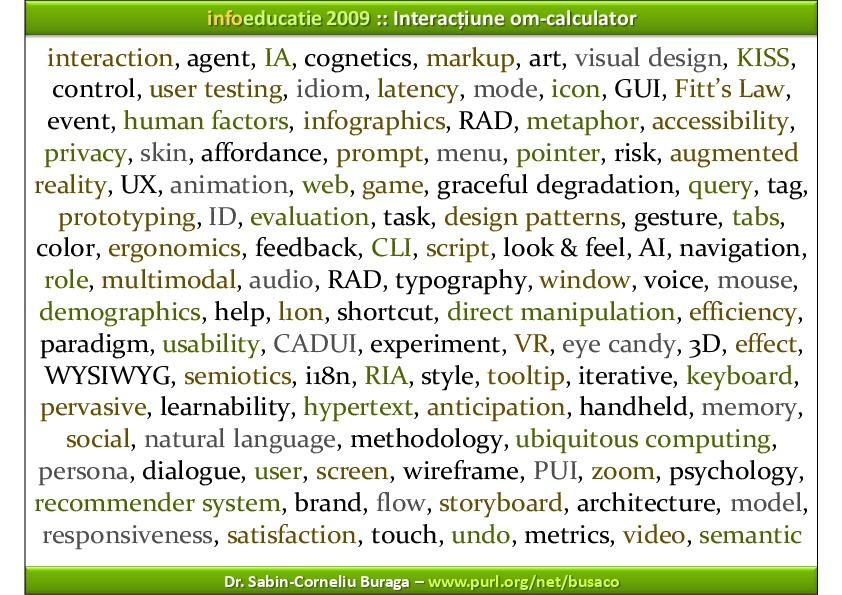paragraph: (35, 40, 819, 555)
title: (201, 1, 654, 30)
